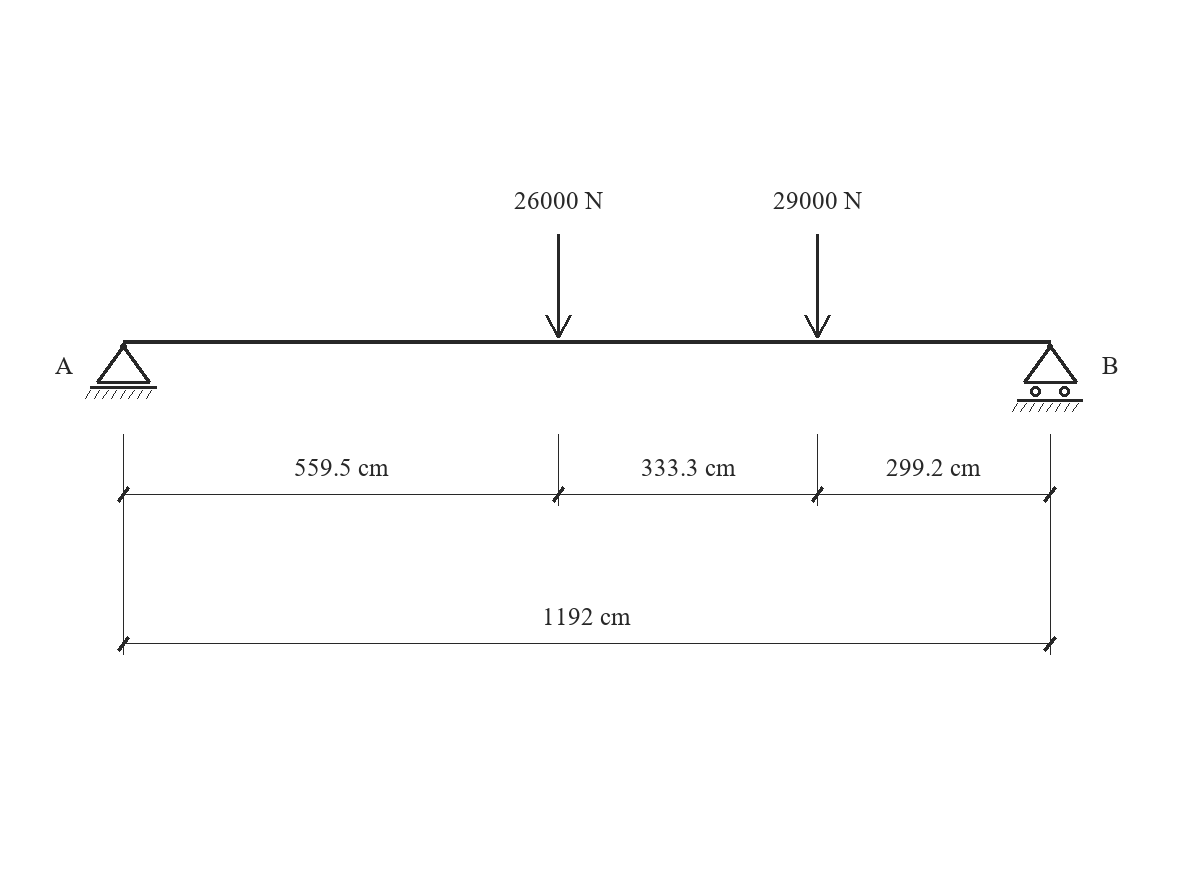pin_support: (85, 343, 157, 399)
point_load: (545, 234, 572, 338), (804, 234, 831, 338)
roller_support: (1012, 343, 1083, 412)
